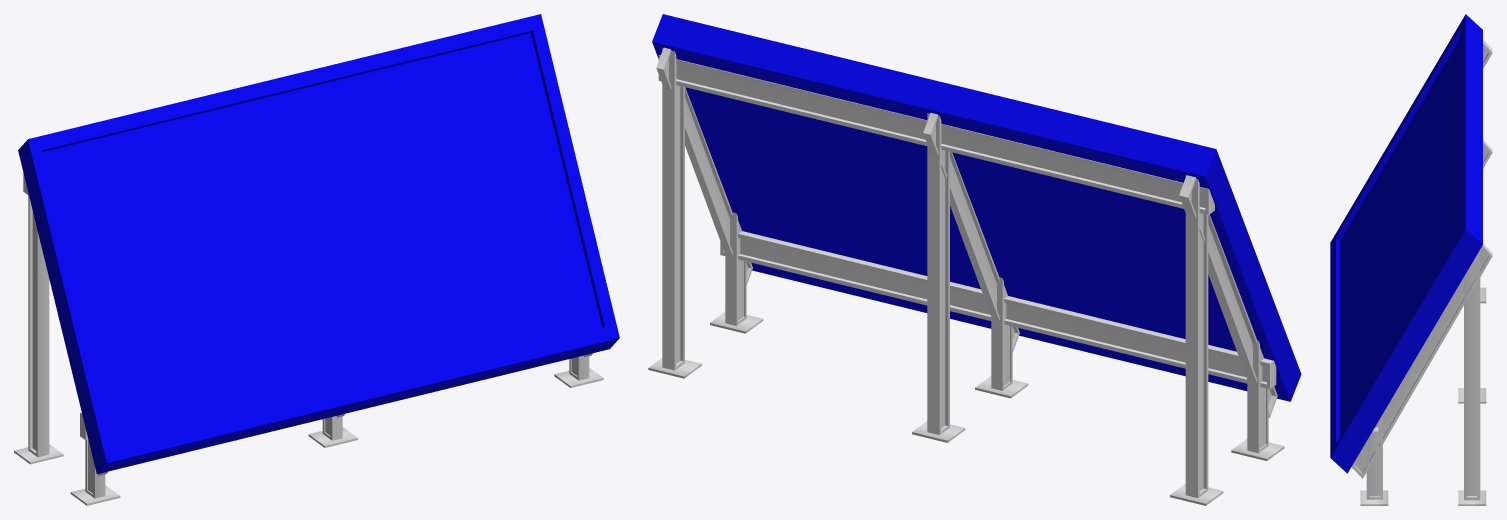
The model's file is SM_Int_SolarPanel.fbx.
3 views of the same model, side by side, from view 1: azimuth 30°, elevation 25°; view 2: azimuth 150°, elevation 25°; view 3: azimuth 270°, elevation 25° (orthographic). The views are drawn at different scales.
Parts seen in each view (by area): view 1: SM_Int_SolarPanel; view 2: SM_Int_SolarPanel; view 3: SM_Int_SolarPanel.
Part boxes in pixels (bbox=[...]): SM_Int_SolarPanel: bbox=[14, 14, 619, 505]; SM_Int_SolarPanel: bbox=[648, 14, 1301, 505]; SM_Int_SolarPanel: bbox=[1330, 14, 1492, 505].
Bounding box in the file's own units: 134 × 80 × 42.62.
